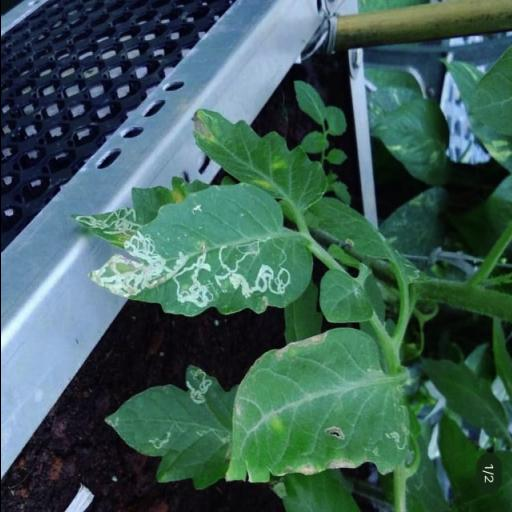disease_tomato: (86, 180, 312, 320), (104, 368, 234, 492)
